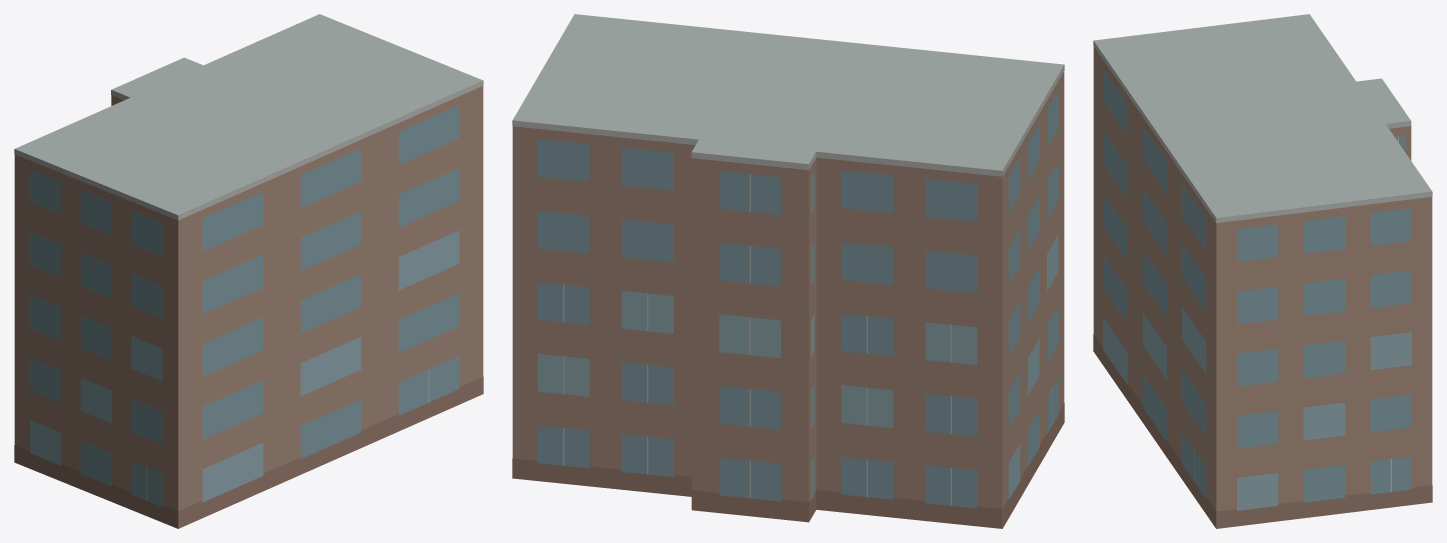
File: survey-upis-32718798.glb
The picture shows the model from 3 angles, left to right: view 1: azimuth 30°, elevation 25°; view 2: azimuth 150°, elevation 25°; view 3: azimuth 270°, elevation 25°; orthographic projection. The views are drawn at different scales.
Visible parts, largest first — view 1: survey-upis-32718798.tmp; view 2: survey-upis-32718798.tmp; view 3: survey-upis-32718798.tmp.
Part boxes in pixels (x1,y1,x2,y2): survey-upis-32718798.tmp: (14,14,483,528); survey-upis-32718798.tmp: (512,14,1064,528); survey-upis-32718798.tmp: (1093,14,1432,528).
Size of the model in its own units: 20.85 by 14.8 by 14.64.
